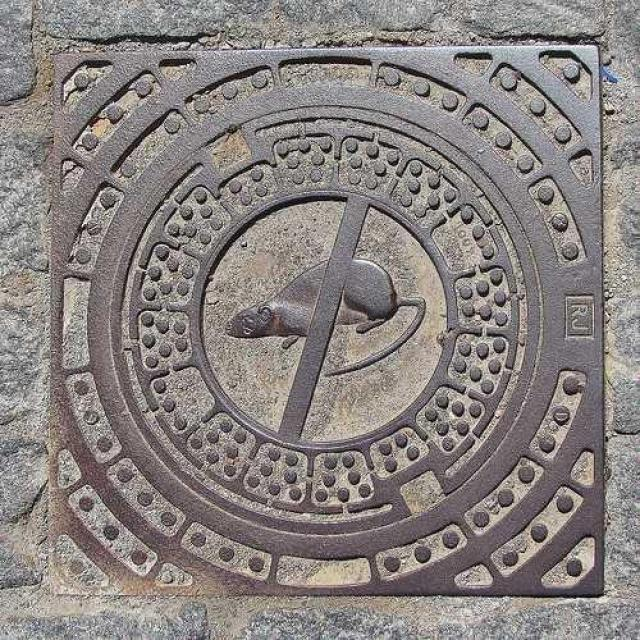manhole: (53, 45, 604, 594)
